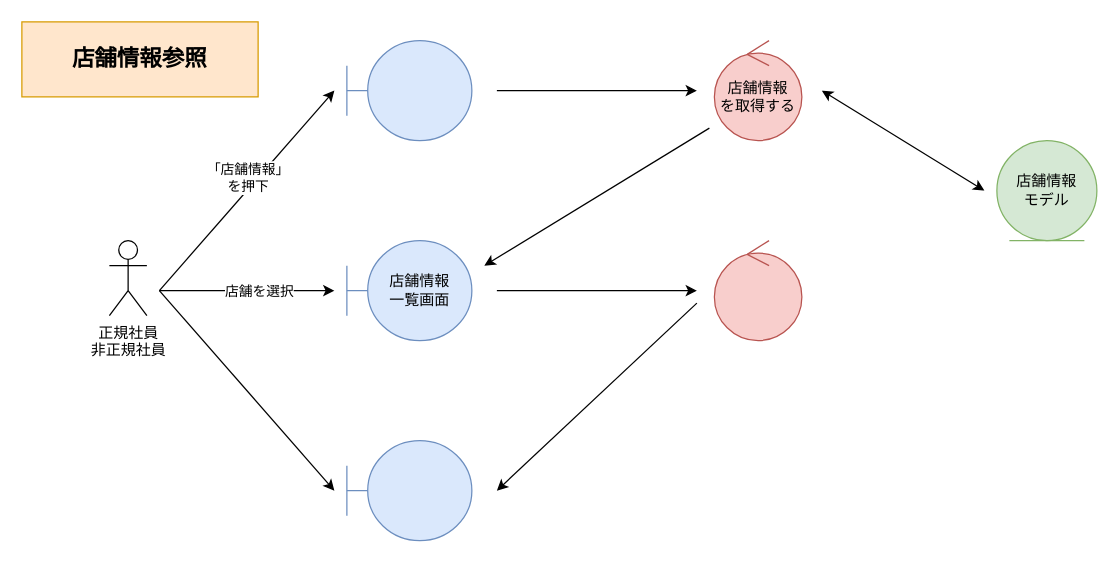
This 1119x563 diagram has some shape labels left out. The centre of each missing label's shape, as x and y in pixels:
"ログイン済 ホーム画面" belongs at pixel 409 90.
"表示する" belongs at pixel 757 290.
"詳細画面" belongs at pixel 409 490.
